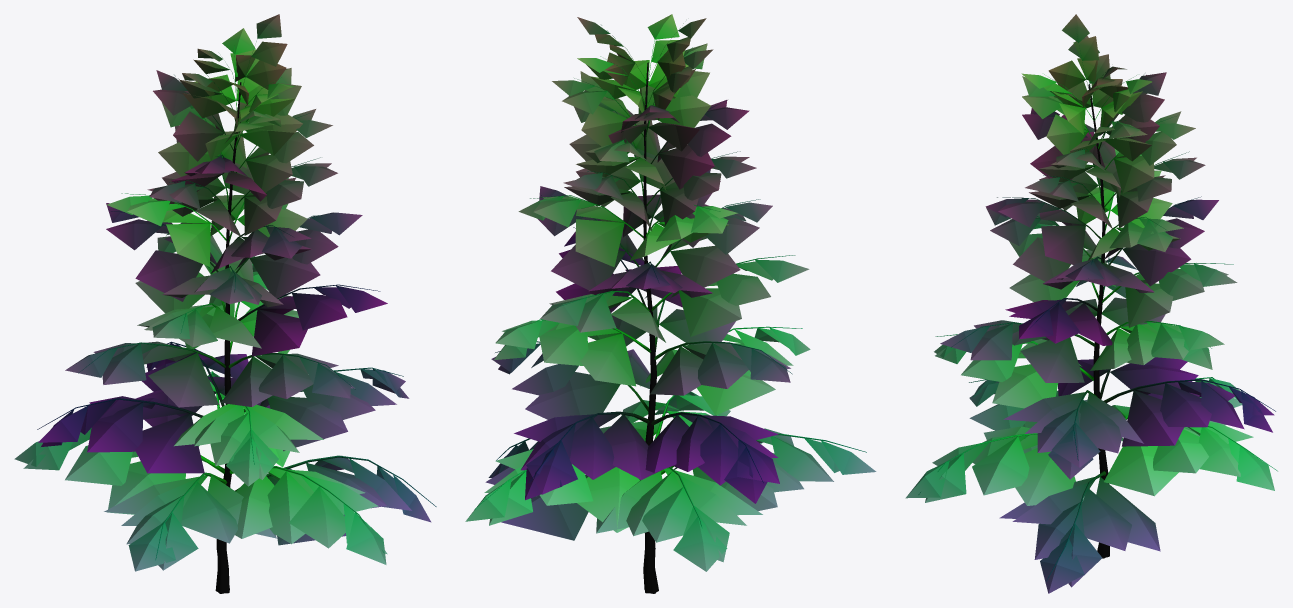
File: EO_BhutanPine.fbx
3 renders of one model, left to right at view 1: azimuth 30°, elevation 25°; view 2: azimuth 150°, elevation 25°; view 3: azimuth 270°, elevation 25°, orthographic. The views are drawn at different scales.
Parts seen in each view (by area): view 1: Tree_1, Tree_0; view 2: Tree_1, Tree_0; view 3: Tree_1, Tree_0.
Part boxes in pixels (<box>): Tree_1: <box>14,14,431,571</box>; Tree_0: <box>37,36,436,593</box>; Tree_1: <box>465,14,876,571</box>; Tree_0: <box>474,23,866,593</box>; Tree_1: <box>905,14,1274,593</box>; Tree_0: <box>918,36,1277,581</box>.
Size of the model in its own units: 69.32 by 110 by 71.
